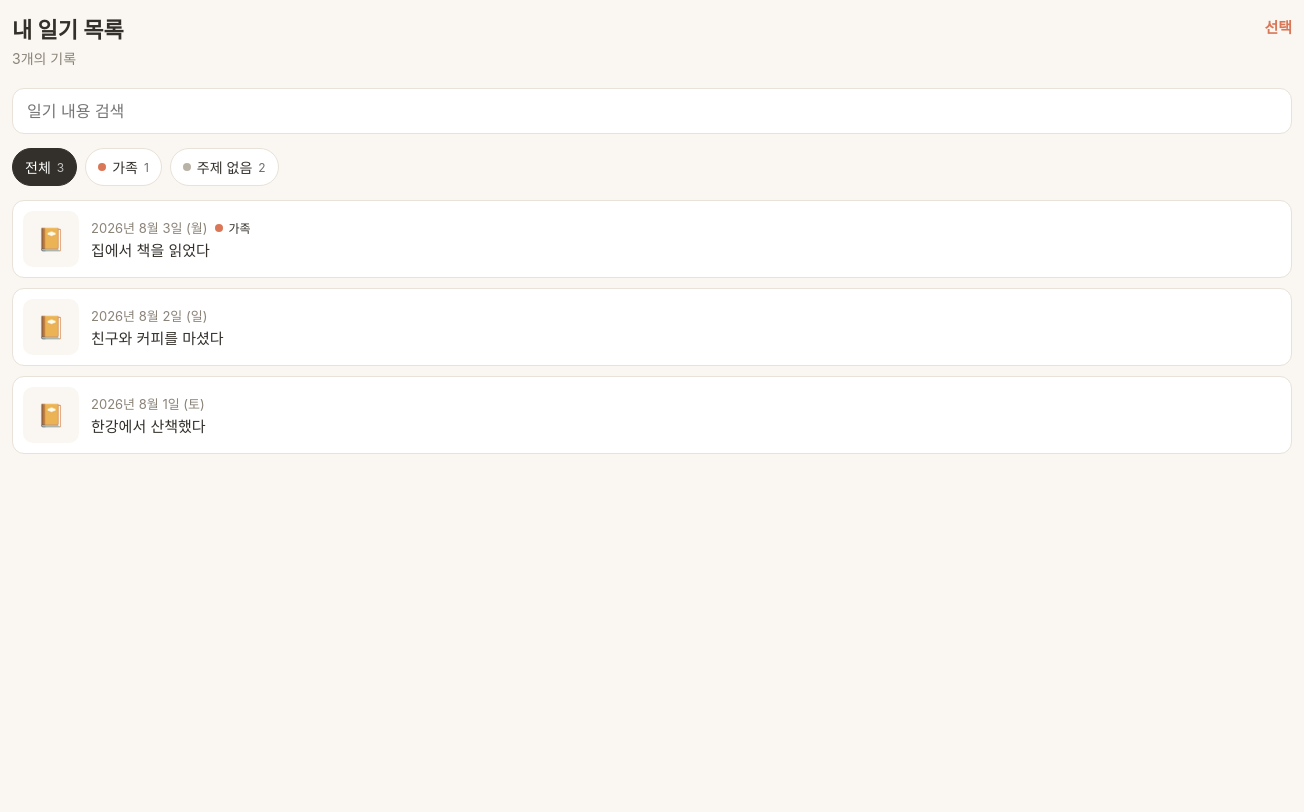
Test case: ListPage 선택 삭제 › 확인 단계에서 취소하면 아무것도 지우지 않는다
The image size is (1304, 812).
Check: the text "3개의 기록" is shown, box [12,50,76,67]
Click the button "선택": (1278, 26) [1264,12,1292,41]
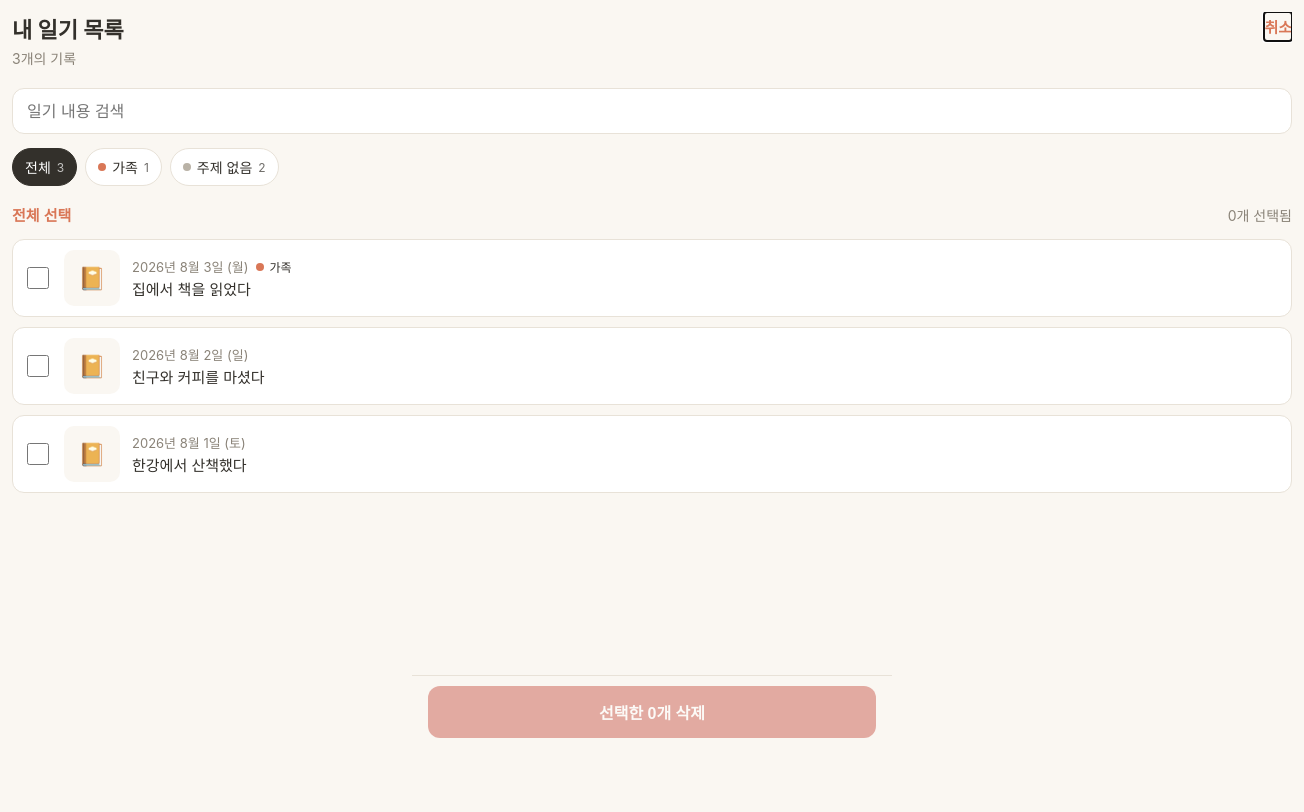
Click the button "전체 선택": (42, 214) [12,200,71,229]
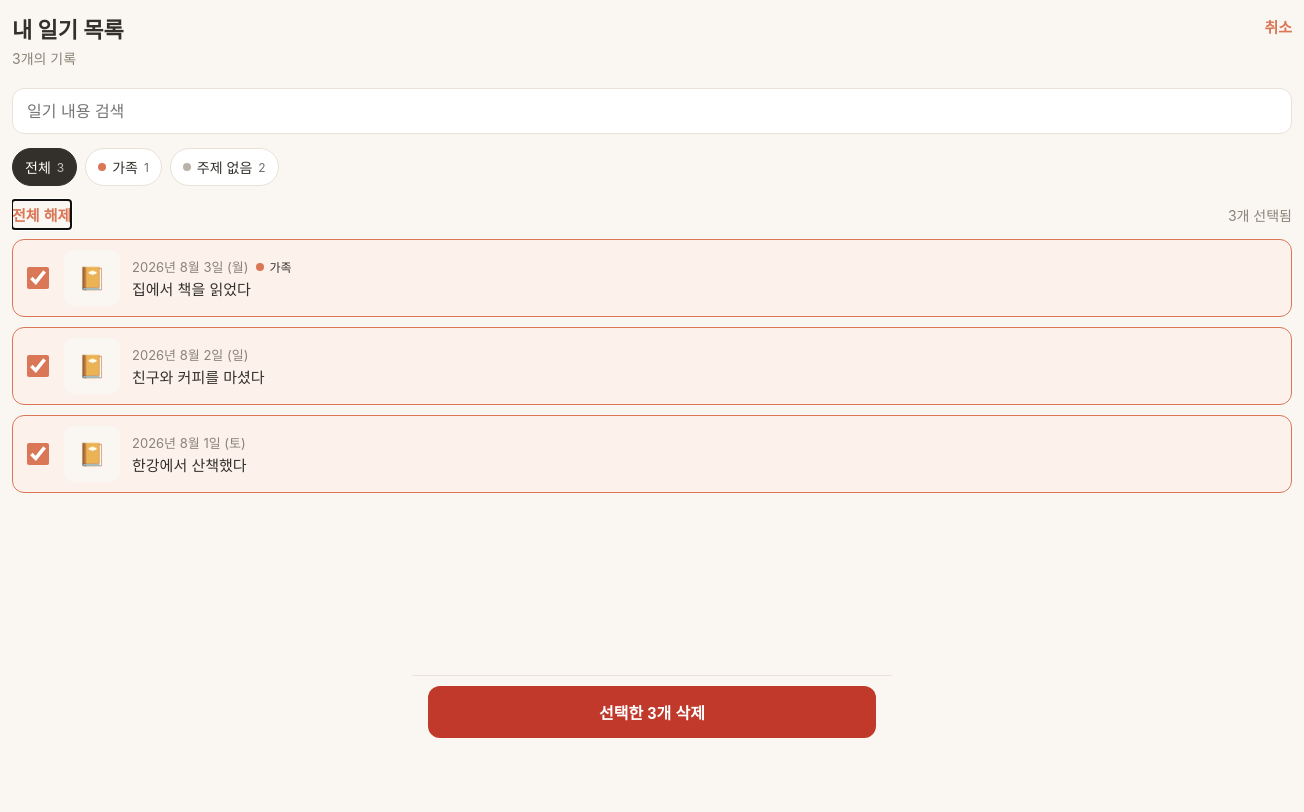
Check: the text "3개 선택됨" is shown, box [1228,204,1292,224]
Click the button "선택한 3개 삭제": (652, 712) [428,686,876,738]
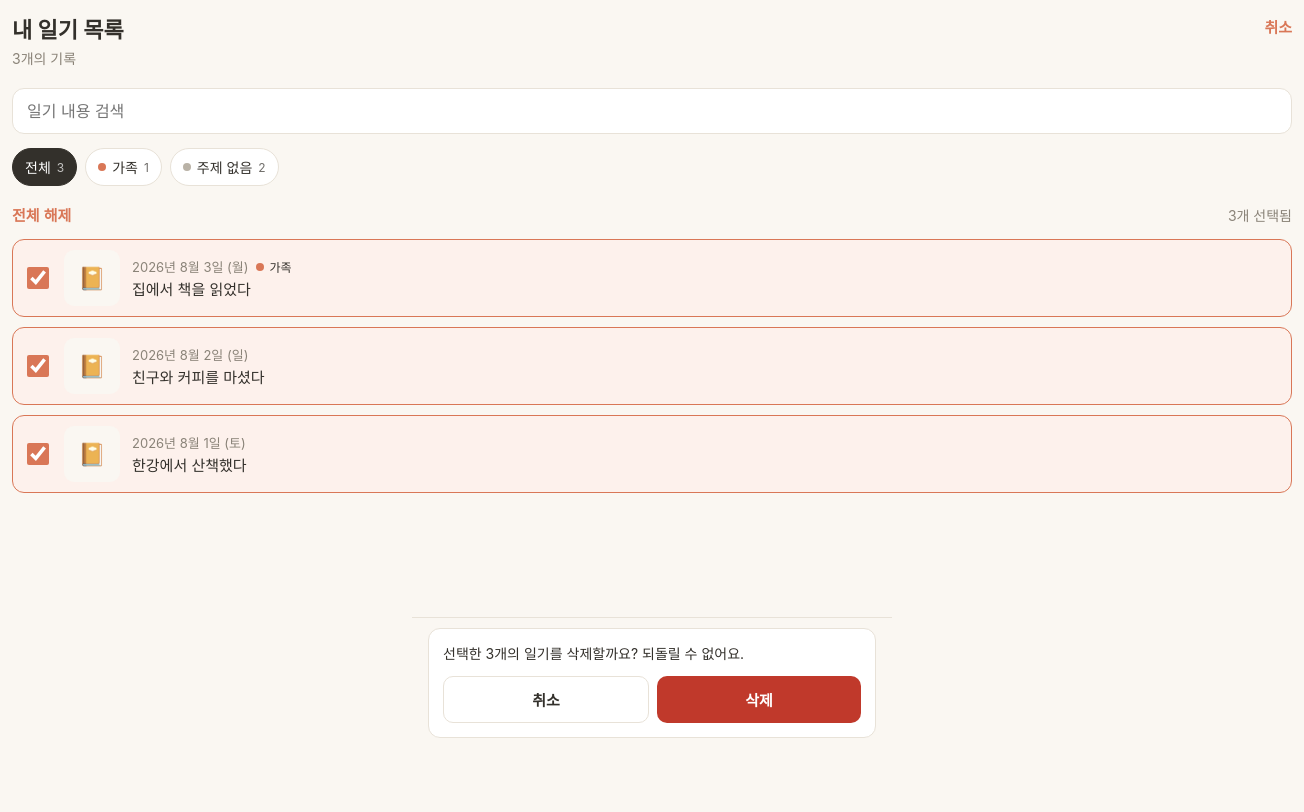
Click the button "취소" below "선택한": (546, 700) [443,676,649,723]
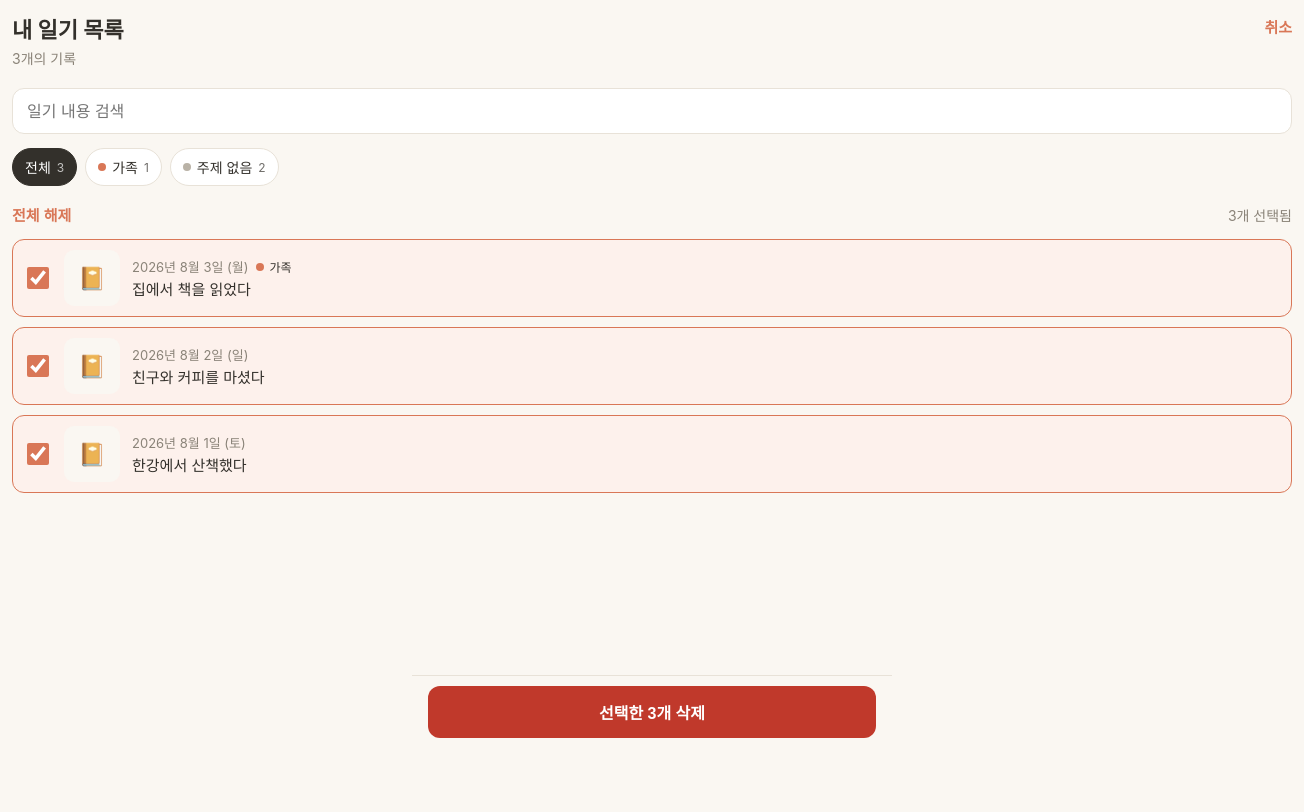
Check: the button "선택한 3개 삭제" is shown, box [428,686,876,738]
